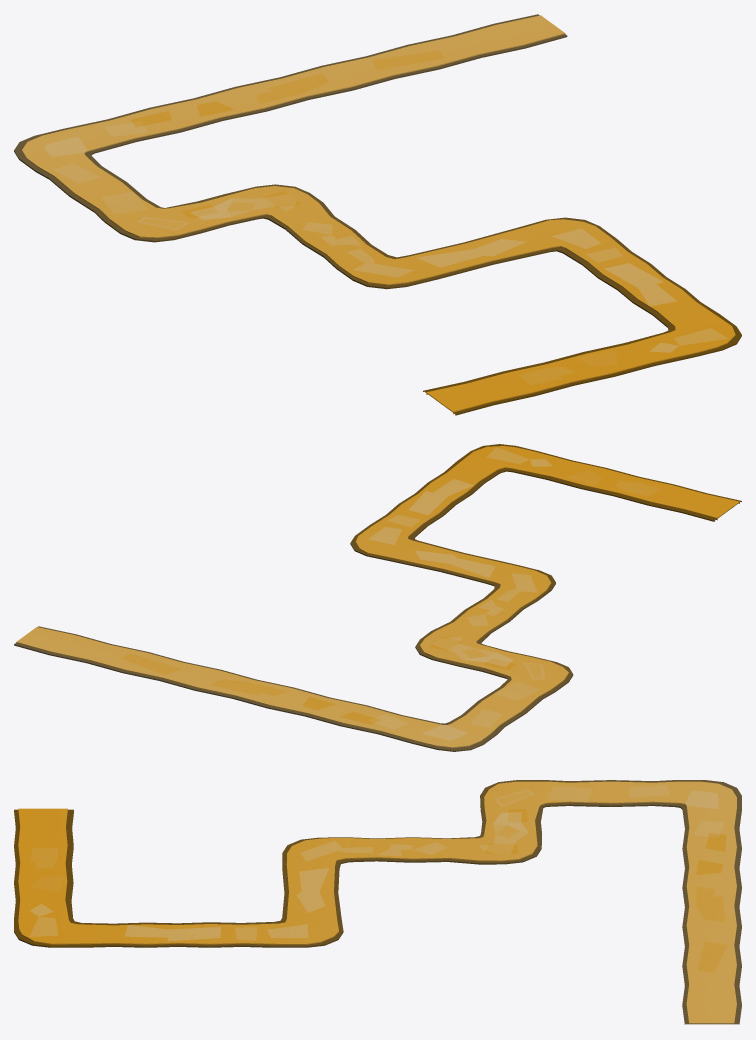
The model's file is map.fbx.
The picture shows the model from 3 angles, top to bottom: view 1: azimuth 30°, elevation 25°; view 2: azimuth 150°, elevation 25°; view 3: azimuth 270°, elevation 25°; orthographic projection. The views are drawn at different scales.
Visible parts, largest first — view 1: Cube.001; view 2: Cube.001; view 3: Cube.001.
Part boxes in pixels (x1,y1,x2,y2): Cube.001: [14, 14, 741, 415]; Cube.001: [14, 444, 741, 751]; Cube.001: [14, 780, 741, 1024].
Bounding box in the file's own units: 863 × 4.11 × 1087.
Materials: 1 (1 with a texture image).
